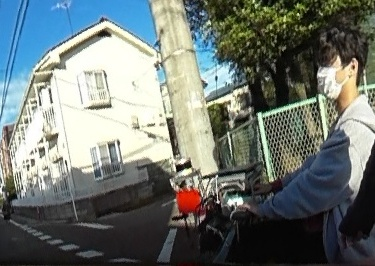person: (264, 16, 375, 266), (1, 197, 13, 220)
